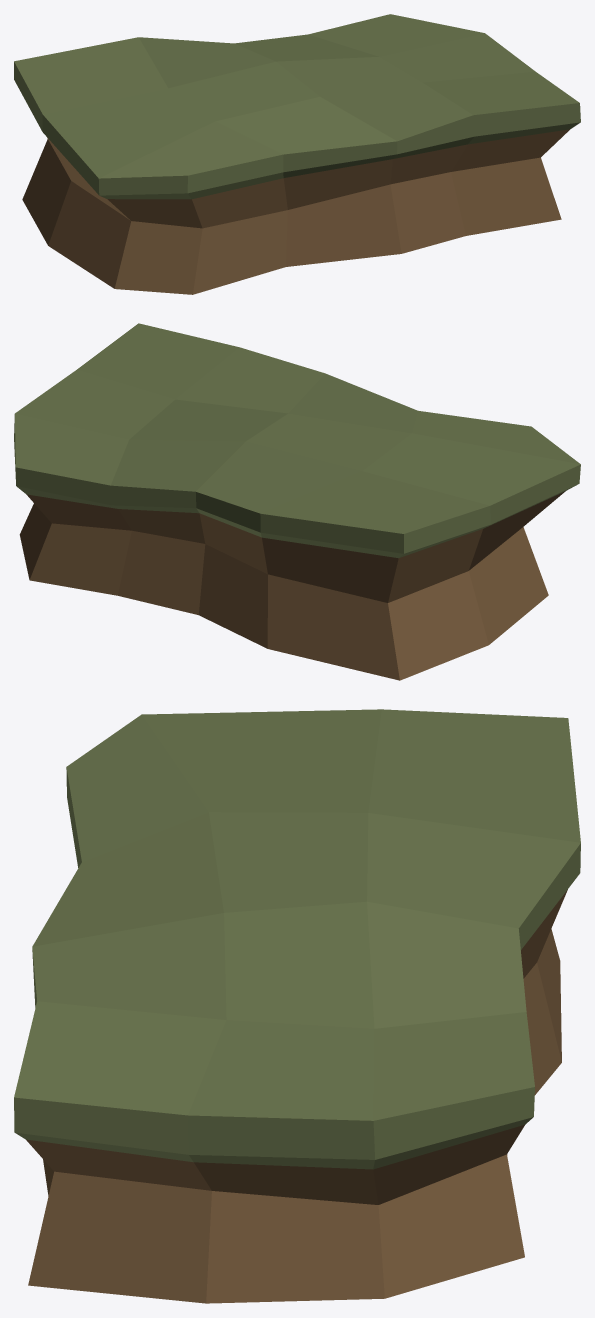
Rendered from SM_Envr_Nature_Cliff_04.fbx.
3 views of the same model, one above another, from view 1: azimuth 30°, elevation 25°; view 2: azimuth 150°, elevation 25°; view 3: azimuth 270°, elevation 25° (orthographic). The views are drawn at different scales.
Visible parts, largest first — view 1: SM_Envr_Nature_Cliff_04; view 2: SM_Envr_Nature_Cliff_04; view 3: SM_Envr_Nature_Cliff_04.
Part boxes in pixels (box(x1,y1,x2,y2)): SM_Envr_Nature_Cliff_04: box(14, 14, 580, 294); SM_Envr_Nature_Cliff_04: box(14, 323, 580, 680); SM_Envr_Nature_Cliff_04: box(14, 709, 580, 1303).
Bounding box in the file's own units: 433 × 127 × 272.
